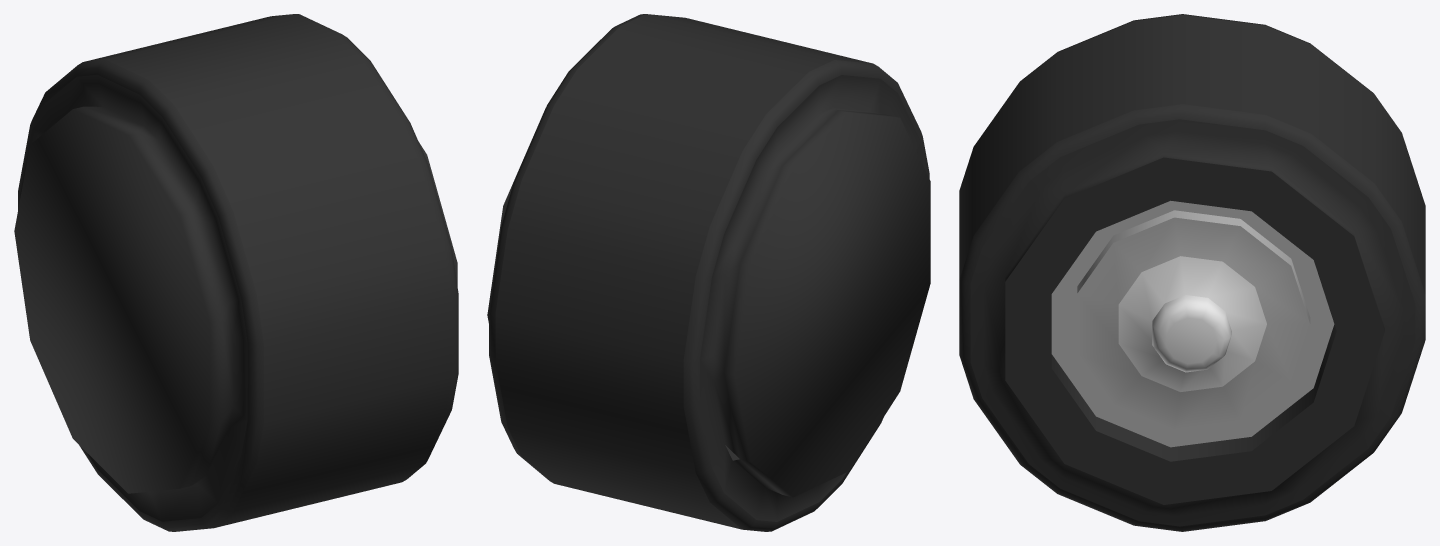
File: race_car_wheel.fbx
3 renders of one model, left to right at view 1: azimuth 30°, elevation 25°; view 2: azimuth 150°, elevation 25°; view 3: azimuth 270°, elevation 25°, orthographic. The views are drawn at different scales.
Visible parts, largest first — view 1: RaceCarWheel; view 2: RaceCarWheel; view 3: RaceCarWheel.
Boxes of the visible parts, box(x1,y1,x2,y2) form: RaceCarWheel: box(14, 14, 458, 531); RaceCarWheel: box(487, 14, 930, 531); RaceCarWheel: box(959, 14, 1425, 531).
Size of the model in its own units: 0.7007 by 1.09 by 1.1.
